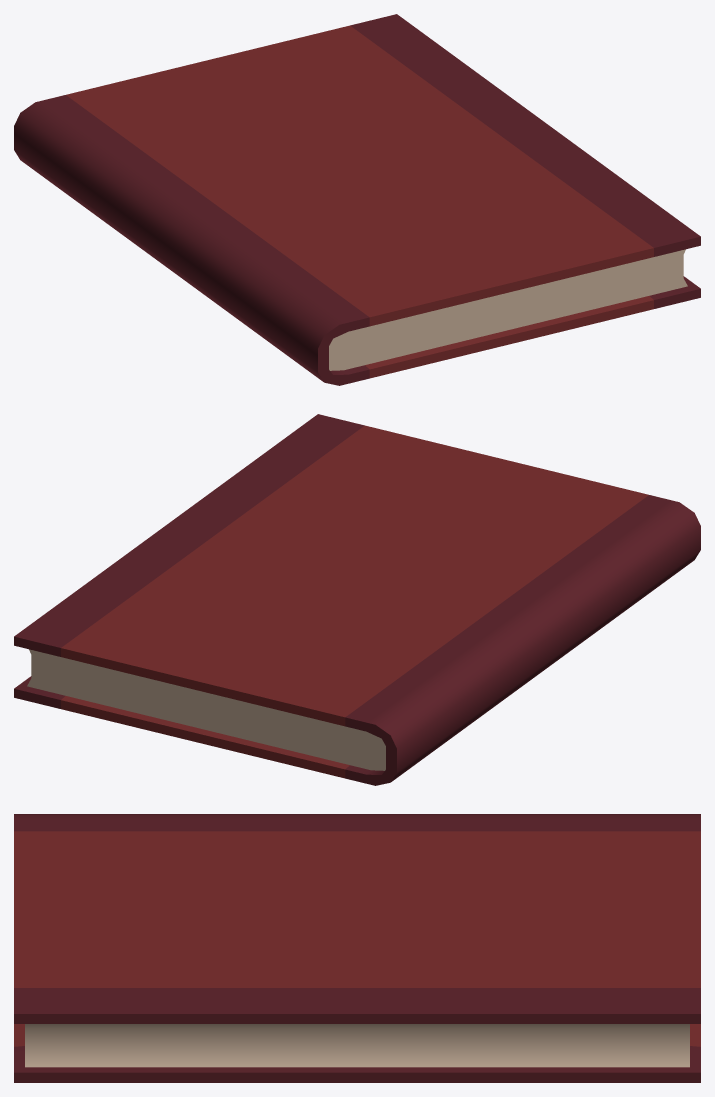
The model's file is Book_11.fbx.
3 views of the same model, one above another, from view 1: azimuth 30°, elevation 25°; view 2: azimuth 150°, elevation 25°; view 3: azimuth 270°, elevation 25° (orthographic). The views are drawn at different scales.
Parts seen in each view (by area): view 1: Book_11; view 2: Book_11; view 3: Book_11.
Boxes of the visible parts, x1,y1,x2,y2 form: Book_11: (14, 14, 700, 385); Book_11: (14, 414, 700, 785); Book_11: (14, 814, 700, 1082).
Bounding box in the file's own units: 0.2383 × 0.0364 × 0.3277.
